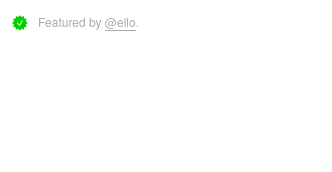
CategoryHistory › for a curator › unfeatures a featured post and goes back to the grey button
What coordinates should you click on to do the following:
click the button with class "featured"
I would click on:
 (20, 23)
Its box is [12,15,28,31].
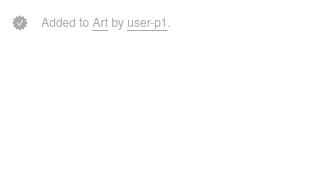
expect the text "Featured by" is gone: met
